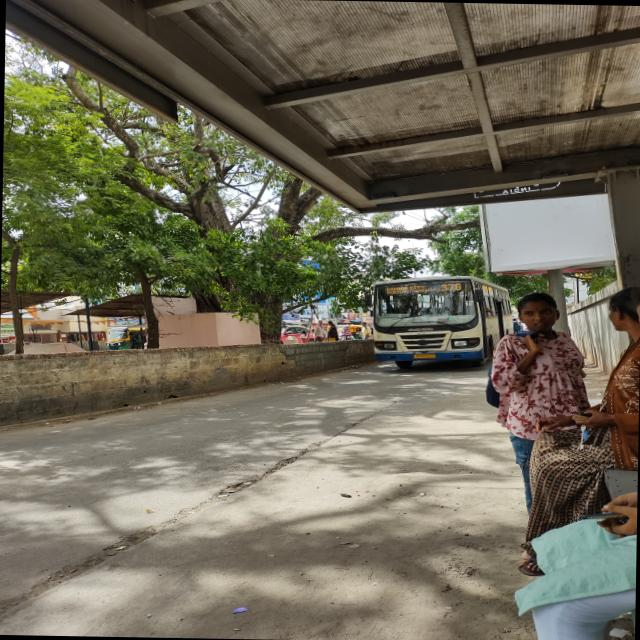bus: (356, 271, 510, 370)
display: (382, 281, 464, 295)
dnumber: (439, 283, 462, 292)
